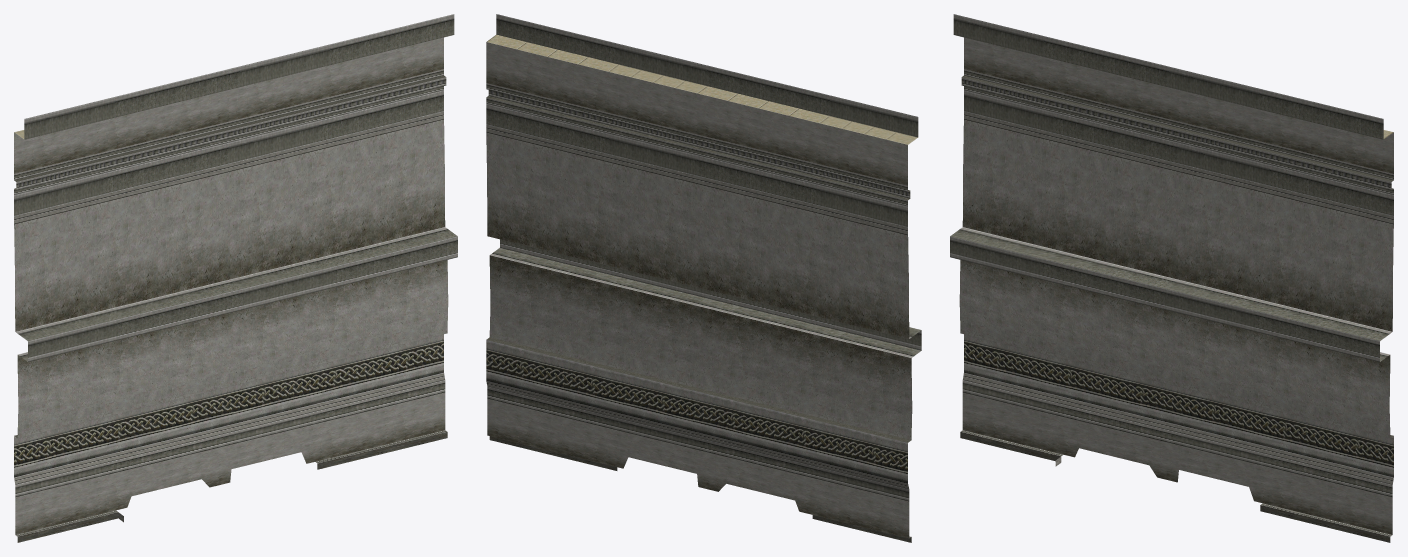
File: DWARF_PALACE_WATER_ROOM_WALL01B01.fbx
3 views of the same model, side by side, from view 1: azimuth 30°, elevation 25°; view 2: azimuth 150°, elevation 25°; view 3: azimuth 330°, elevation 25° (orthographic).
Parts seen in each view (by area): view 1: DWARF_PALACE_WATER_ROOM_WALL01B01; view 2: DWARF_PALACE_WATER_ROOM_WALL01B01; view 3: DWARF_PALACE_WATER_ROOM_WALL01B01.
Boxes of the visible parts, x1,y1,x2,y2 form: DWARF_PALACE_WATER_ROOM_WALL01B01: (14,14,457,542); DWARF_PALACE_WATER_ROOM_WALL01B01: (486,14,921,542); DWARF_PALACE_WATER_ROOM_WALL01B01: (950,14,1393,542).
Size of the model in its own units: 214934 by 205000 by 12001.
9 materials, 9 textured.
